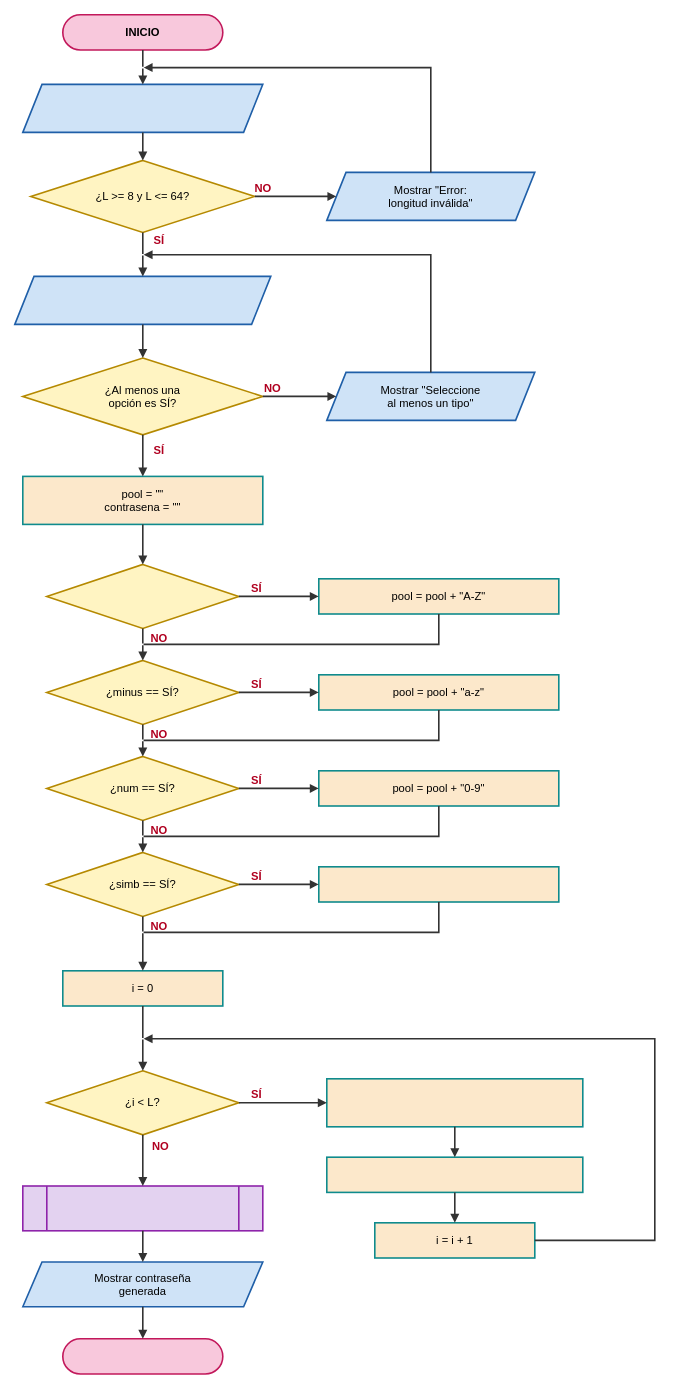
This 675x1388 diagram has some shape labels left out. Each missing label, with the centre of its shape:
contrasena = contrasena + caracter: (x=454, y=1174)
Elegir carácter aleatorio seguro del pool (CSPRNG): (x=454, y=1102)
Evaluar fortaleza (ver Diagrama 2): (x=142, y=1208)
FIN: (x=142, y=1356)
Leer longitud de la contraseña (L): (x=142, y=108)
Leer preferencias: mayus, minus, num, simb: (x=142, y=300)
pool = pool + "!@#$%&*": (x=438, y=884)
¿mayus == SÍ?: (x=142, y=596)
